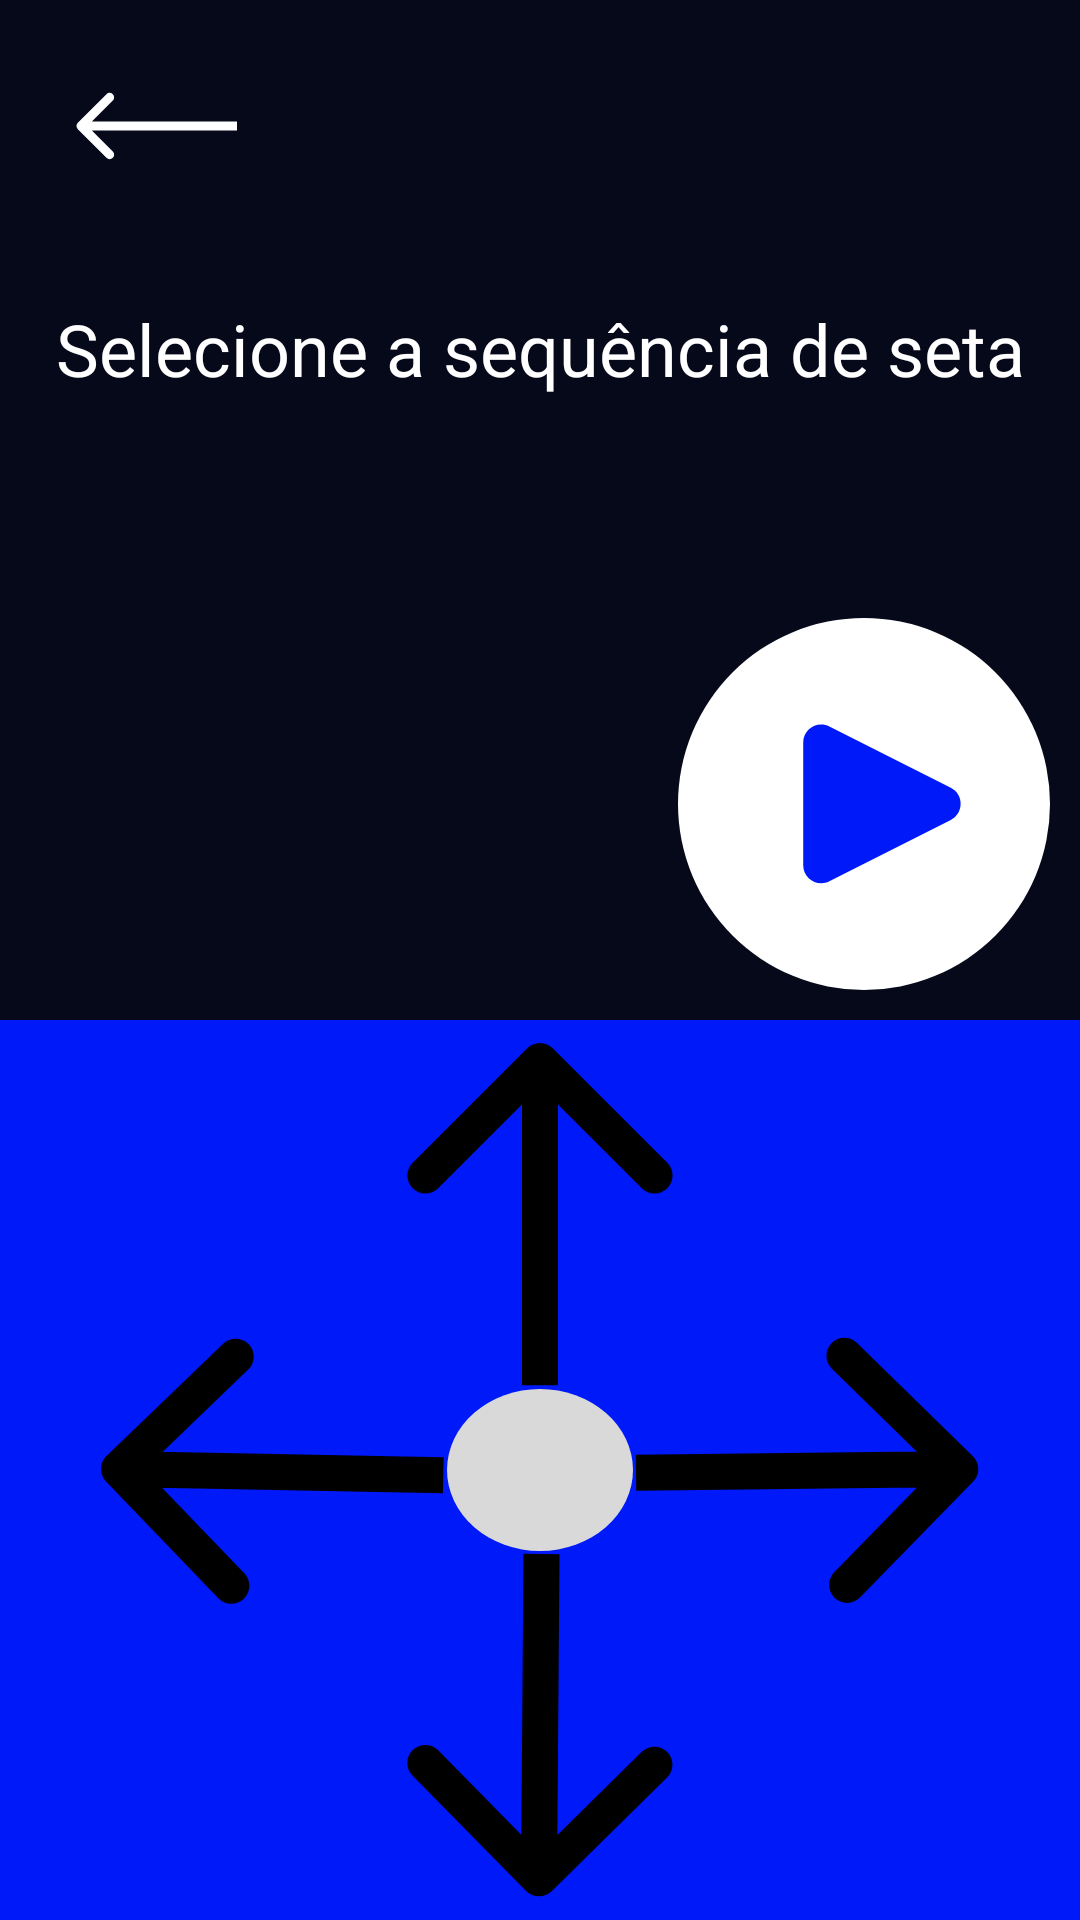

Named icons in this screenshot (1080px x 1920px) and their centers, point (x, y):
phases back arrow: point (156, 126)
phases create directions back: point (540, 1725)
phases create directions front: point (540, 1214)
phases create directions left: point (272, 1471)
phases create directions right: point (807, 1470)
